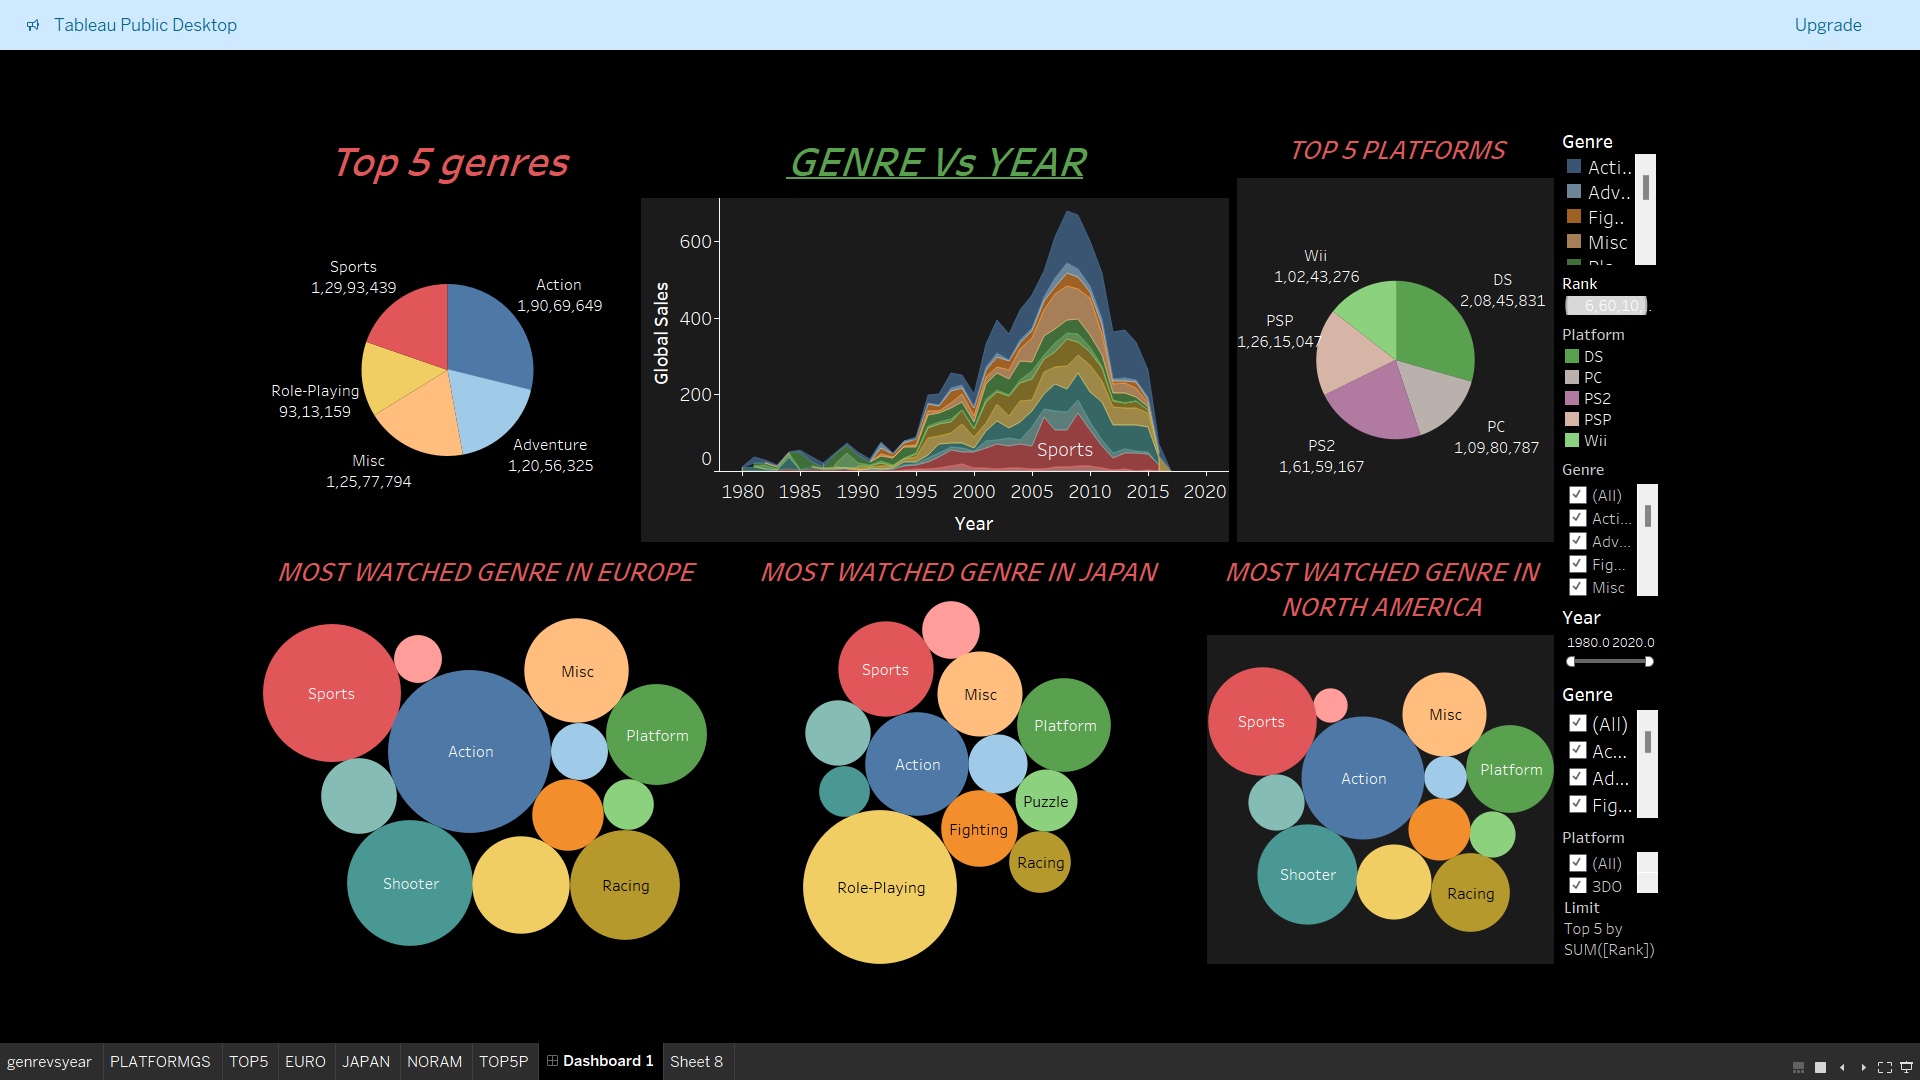

This screenshot's page, from the dashboard's own definition file:
{"tool":"tableau","page":{"name":"Dashboard 1","canvas":[1000,1000],"units":"permille","ordinal":0},"visuals":[{"type":"worksheet","title":"TOP5","mark":"Pie","box":[6.1,10.6,265.1,489.4]},{"type":"worksheet","title":"genrevsyear","mark":"Area","rows":["global_sales"],"cols":["year"],"box":[271.1,10.6,416.7,489.4]},{"type":"worksheet","title":"TOP5P","mark":"Pie","box":[687.8,10.6,227.4,489.4]},{"type":"legend","title":"genrevsyear","param":"[federated.1hepfrq0s1xbnm12bm8op057nvcd].[none:genre:nk]","box":[915.1,10.6,78.8,164.1]},{"type":"legend","title":"TOP5","param":"[federated.1hepfrq0s1xbnm12bm8op057nvcd].[sum:rank:qk]","box":[915.1,174.8,78.8,61.1]},{"type":"legend","title":"TOP5P","param":"[federated.1hepfrq0s1xbnm12bm8op057nvcd].[none:platform:nk]","box":[915.1,235.8,78.8,164.1]},{"type":"filter","title":"EURO","param":"[federated.1hepfrq0s1xbnm12bm8op057nvcd].[none:genre:nk]","box":[915.1,400,78.8,164.1]},{"type":"worksheet","title":"EURO","mark":"Circle","box":[6.1,500,316.6,489.4]},{"type":"worksheet","title":"JAPAN","mark":"Circle","box":[322.7,500,343.9,489.4]},{"type":"worksheet","title":"NORAM","mark":"Circle","box":[666.6,500,248.6,489.4]},{"type":"filter","title":"genrevsyear","param":"[federated.1hepfrq0s1xbnm12bm8op057nvcd].[none:year:qk]","box":[915.1,564.1,78.8,96.9]},{"type":"filter","title":"genrevsyear","param":"[federated.1hepfrq0s1xbnm12bm8op057nvcd].[none:genre:nk]","box":[915.1,661.1,78.8,164.1]},{"type":"filter","title":"TOP5P","param":"[federated.1hepfrq0s1xbnm12bm8op057nvcd].[none:platform:nk]","box":[915.1,825.2,78.8,164.2]}]}

Visuals, with their boxes on the dashboard's canvas, which has no fixed pixel size, in thousandths of its width and height (x1, y1, x2, y2). These are canvas units, not pixel positions in the 1920x1080 screenshot, which may show the page scaled, cropped or inside an application window:
"TOP5" worksheet (Pie marks): 6, 11, 271, 500
"genrevsyear" worksheet (Area marks): 271, 11, 688, 500
"TOP5P" worksheet (Pie marks): 688, 11, 915, 500
"genrevsyear" legend: 915, 11, 994, 175
"TOP5" legend: 915, 175, 994, 236
"TOP5P" legend: 915, 236, 994, 400
"EURO" filter: 915, 400, 994, 564
"EURO" worksheet (Circle marks): 6, 500, 323, 989
"JAPAN" worksheet (Circle marks): 323, 500, 667, 989
"NORAM" worksheet (Circle marks): 667, 500, 915, 989
"genrevsyear" filter: 915, 564, 994, 661
"genrevsyear" filter: 915, 661, 994, 825
"TOP5P" filter: 915, 825, 994, 989
